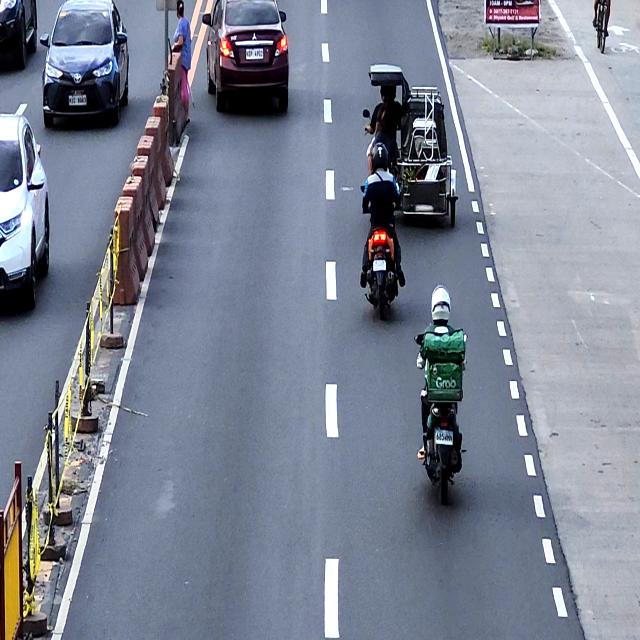Bicycle: (594, 0, 610, 55)
Car: (40, 0, 130, 130), (201, 0, 292, 116), (0, 115, 51, 317), (0, 0, 38, 75)
License-Plate: (434, 429, 454, 445), (245, 49, 264, 60), (68, 95, 87, 105), (373, 260, 386, 271)
Motorcycle: (414, 332, 468, 504), (360, 181, 404, 318)
Tricycle: (366, 61, 458, 231)
